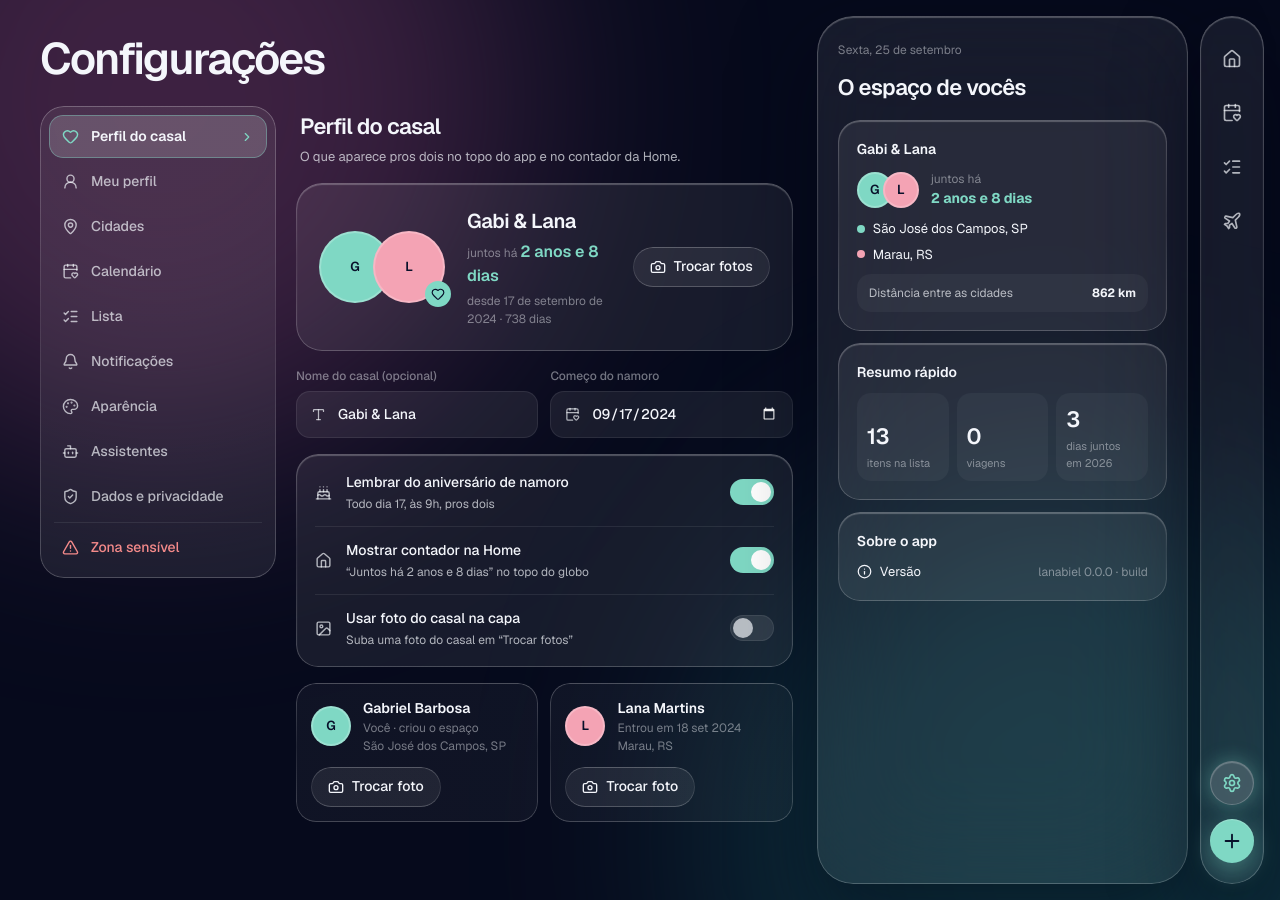
A21 (Fase 5) — o Adicionar da barra › abre o seletor com evento e item, e Esc fecha
The width and height of the screenshot is (1280, 900).
Step 1. Click the button named "Adicionar" → (1232, 841), box [1210, 819, 1254, 863]
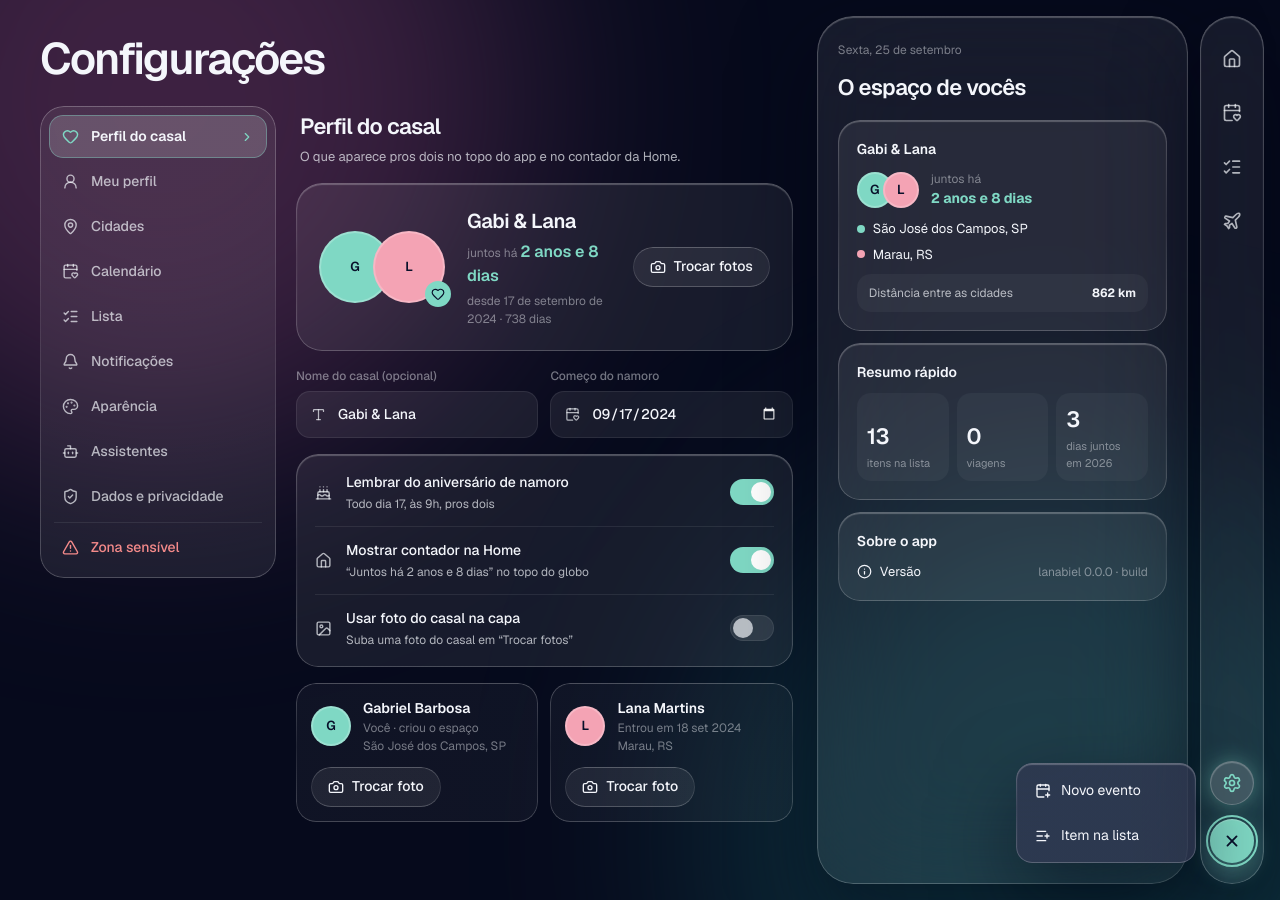
Check: the menu items read "Novo evento", "Item na lista", in this order, box [1023, 770, 1189, 811]; [1023, 815, 1189, 856]
Step 2. Press Escape
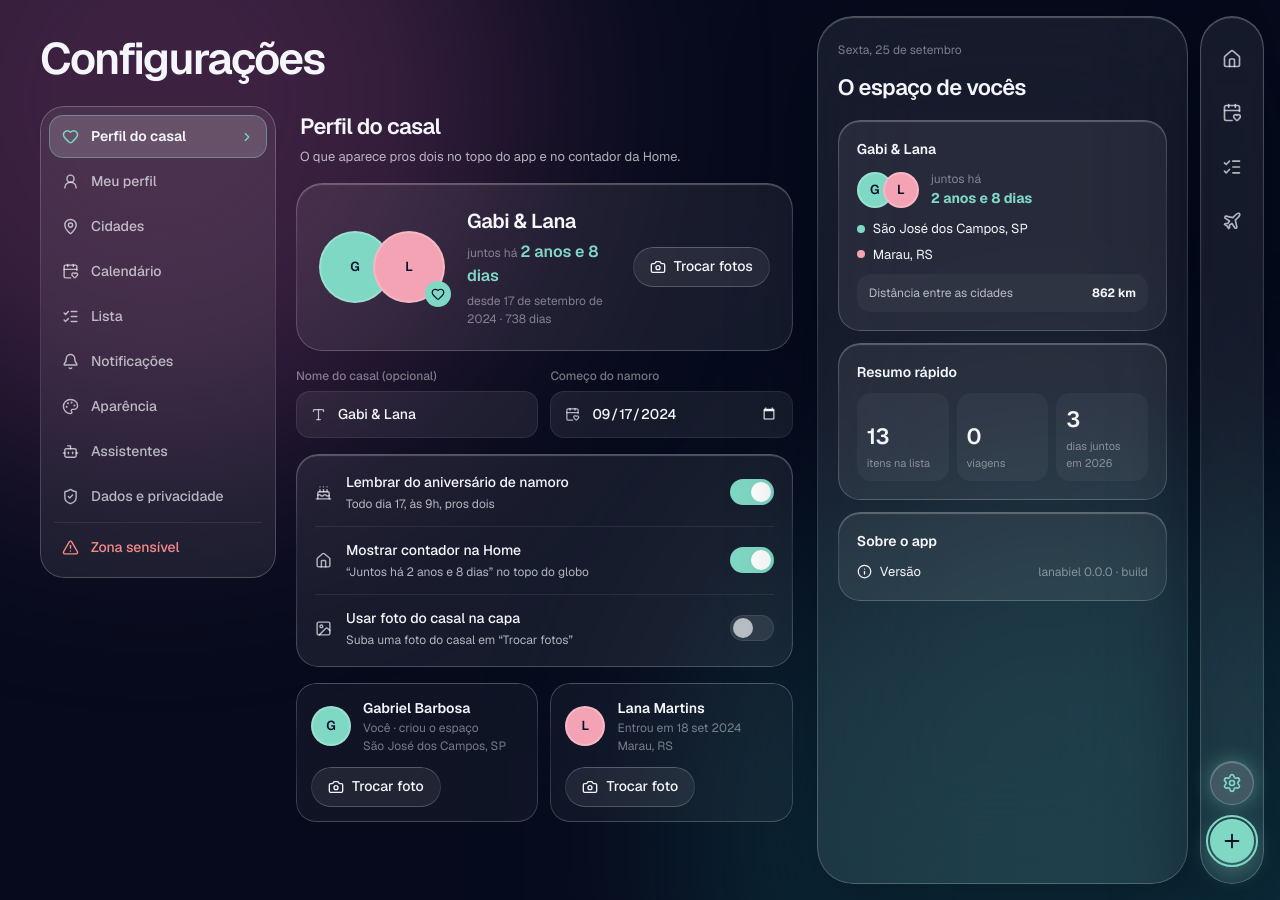
Check: the menu is gone
